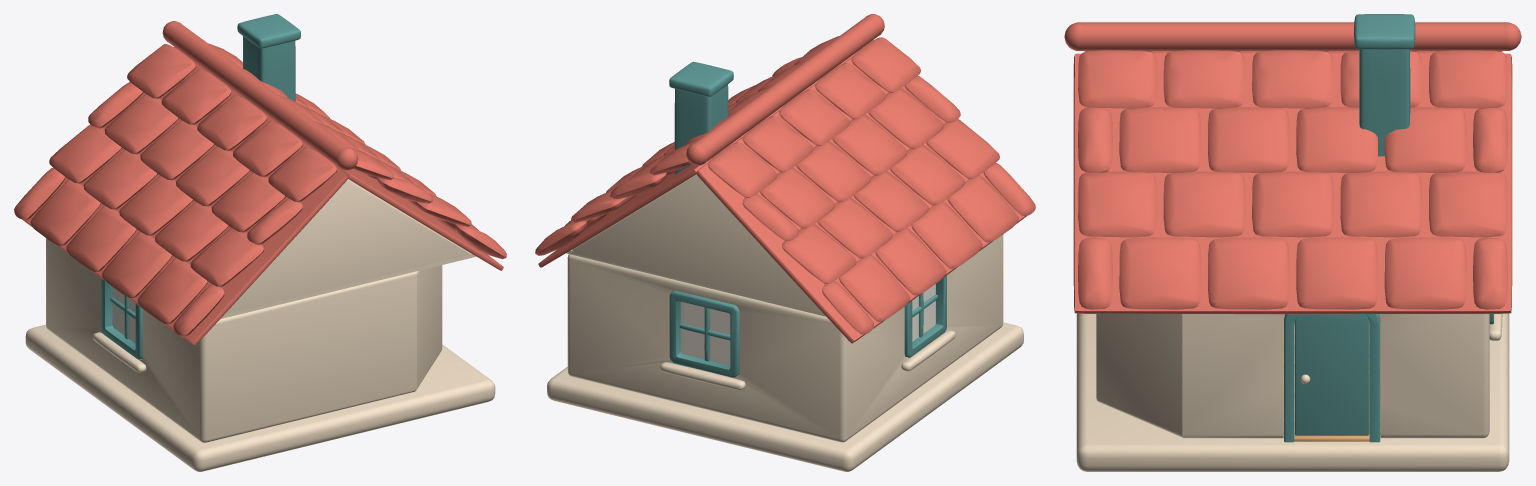
Rendered from four_corners_stage1.glb.
The picture shows the model from 3 angles, left to right: view 1: azimuth 30°, elevation 25°; view 2: azimuth 150°, elevation 25°; view 3: azimuth 270°, elevation 25°; orthographic projection. The views are drawn at different scales.
Parts seen in each view (by area): view 1: roof, room_1_walls, base, room_1_windows; view 2: roof, room_1_walls, base, room_1_windows; view 3: roof, room_1_walls, base, room_1_door, room_1_windows.
Boxes of the visible parts, left/top/right/bottom form: roof: left=14, top=14, right=506, bottom=345; room_1_walls: left=46, top=238, right=442, bottom=442; base: left=25, top=324, right=495, bottom=471; room_1_windows: left=93, top=278, right=146, bottom=372; roof: left=535, top=14, right=1035, bottom=343; room_1_walls: left=567, top=234, right=1003, bottom=442; base: left=547, top=322, right=1023, bottom=471; room_1_windows: left=660, top=275, right=955, bottom=390; roof: left=1064, top=14, right=1521, bottom=314; room_1_walls: left=1096, top=314, right=1489, bottom=438; base: left=1076, top=313, right=1509, bottom=471; room_1_door: left=1295, top=314, right=1369, bottom=435; room_1_windows: left=1284, top=313, right=1502, bottom=442.
Bounding box in the file's own units: 7.14 × 6.52 × 6.98.
